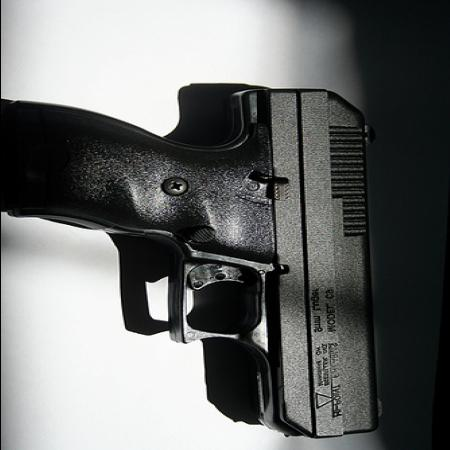Pistol: (6, 85, 384, 440)
